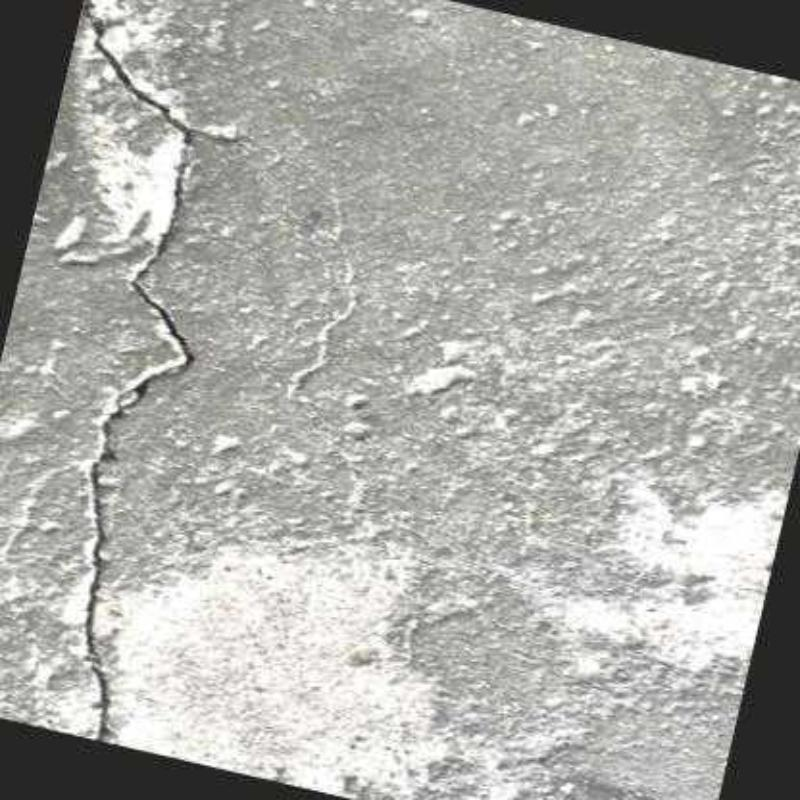pothole: (79, 0, 195, 742)
